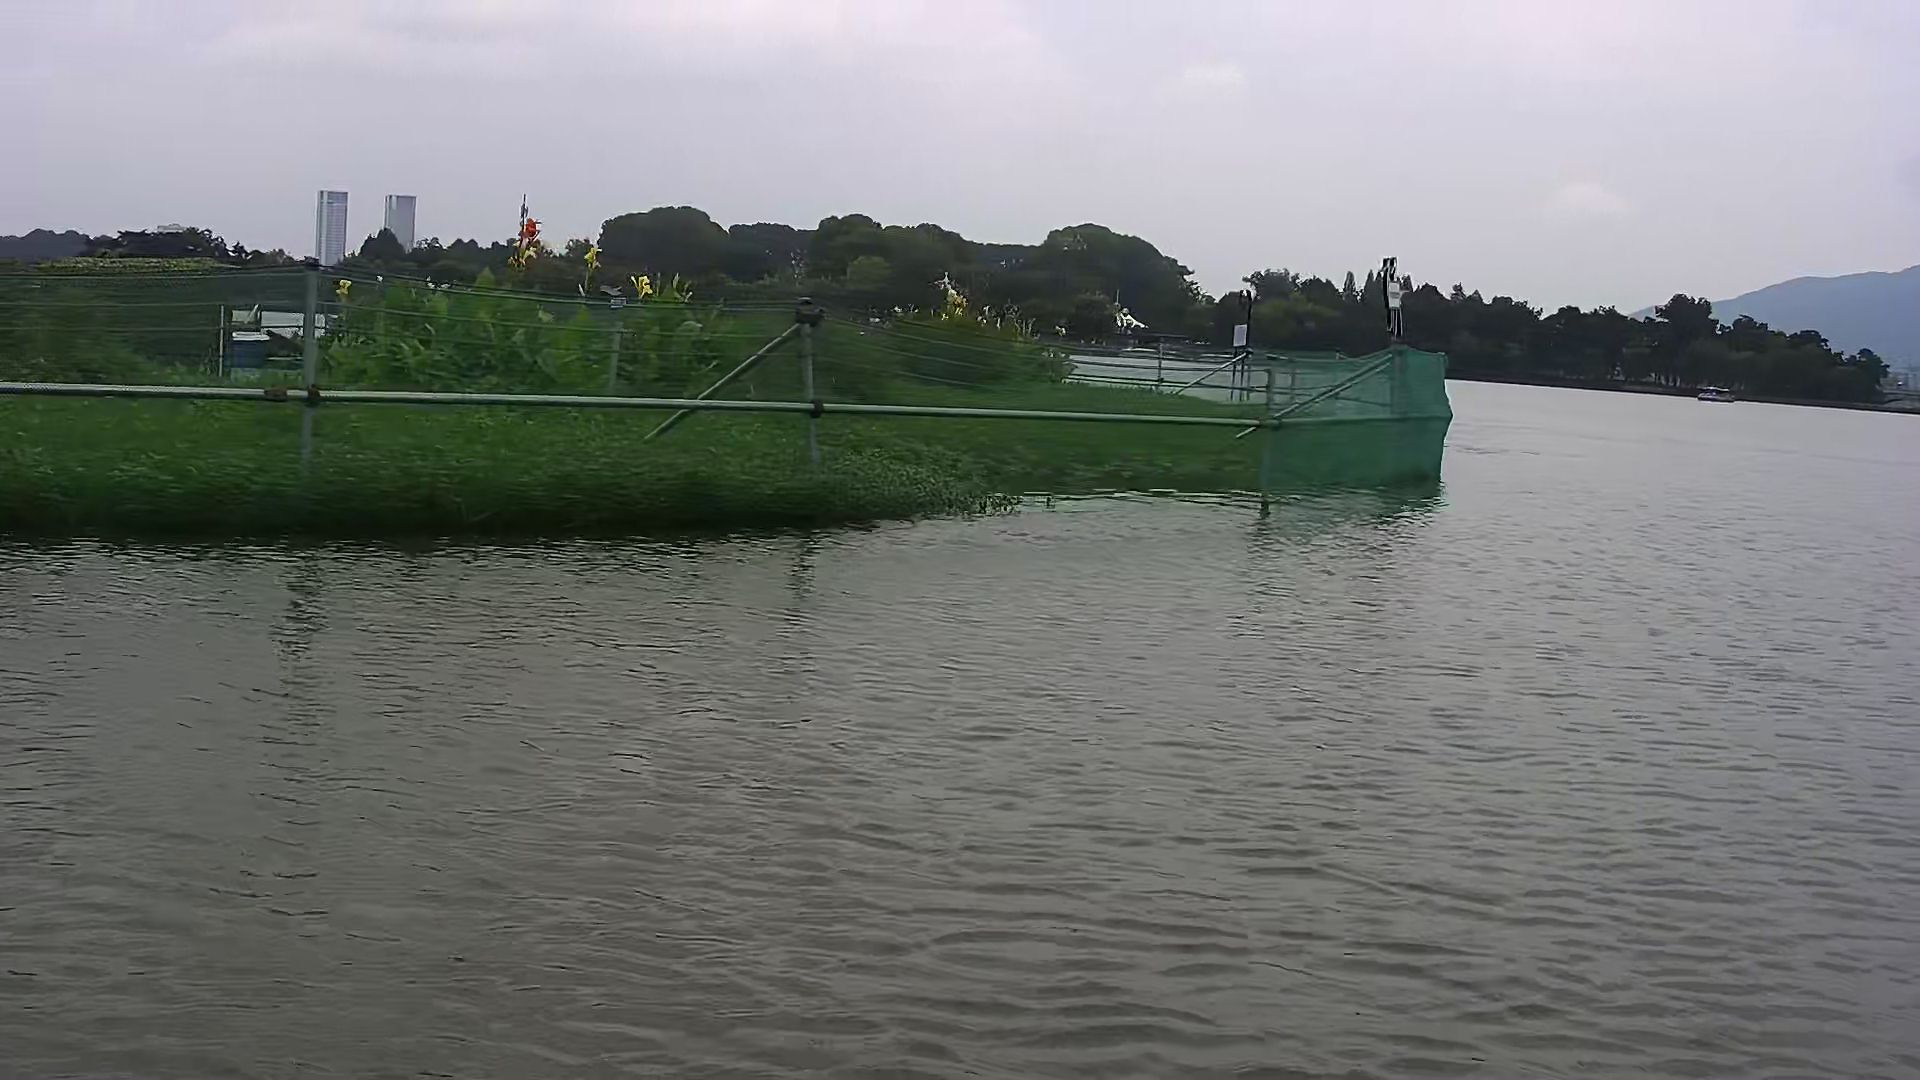grass: (18, 260, 1458, 508)
